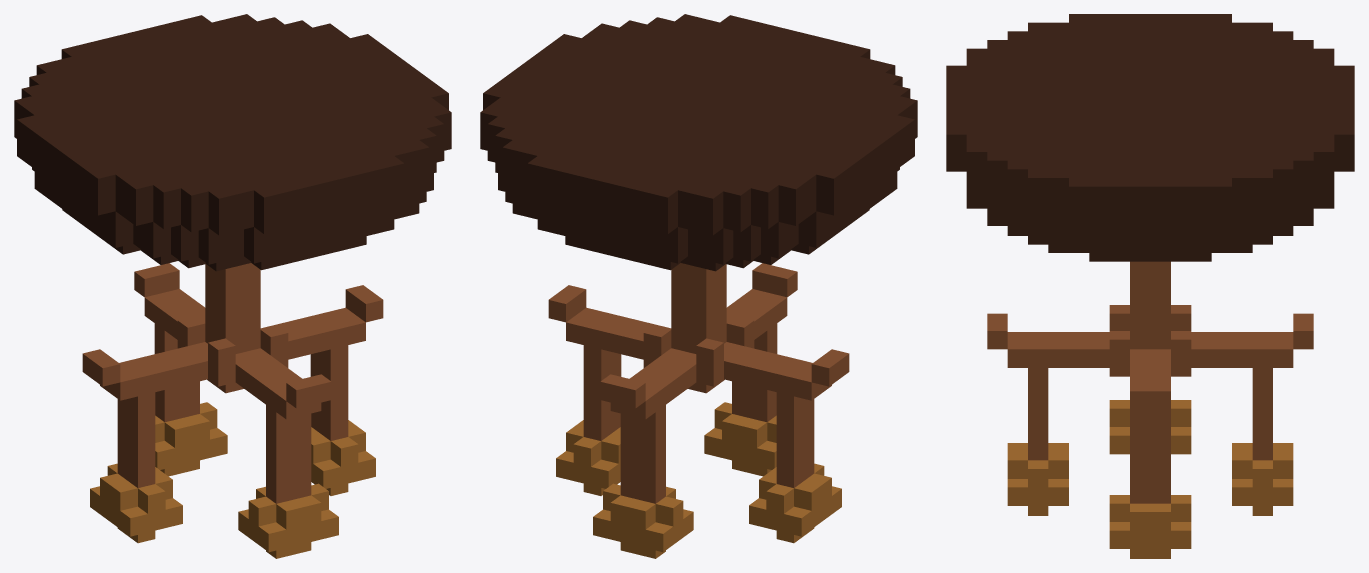
File: chandelier02.obj
3 renders of one model, left to right at view 1: azimuth 30°, elevation 25°; view 2: azimuth 150°, elevation 25°; view 3: azimuth 270°, elevation 25°, orthographic.
Size of the model in its own units: 20 by 22 by 20.
Materials: 1 (1 with a texture image).
